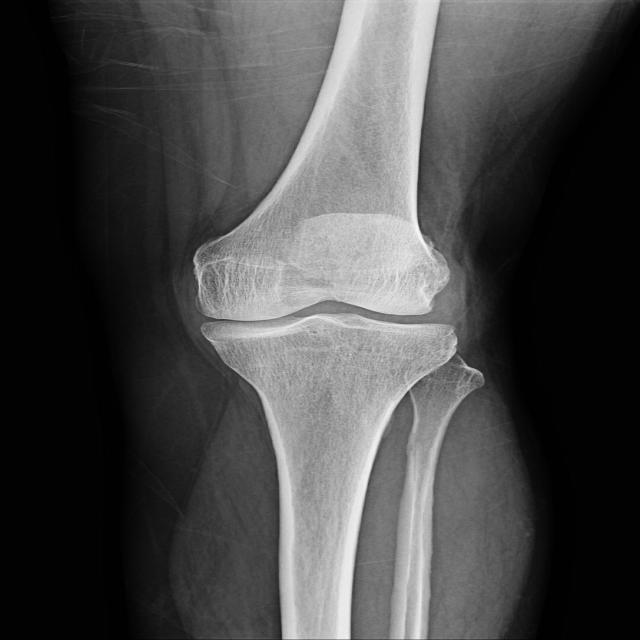osteo: (186, 241, 468, 364)
